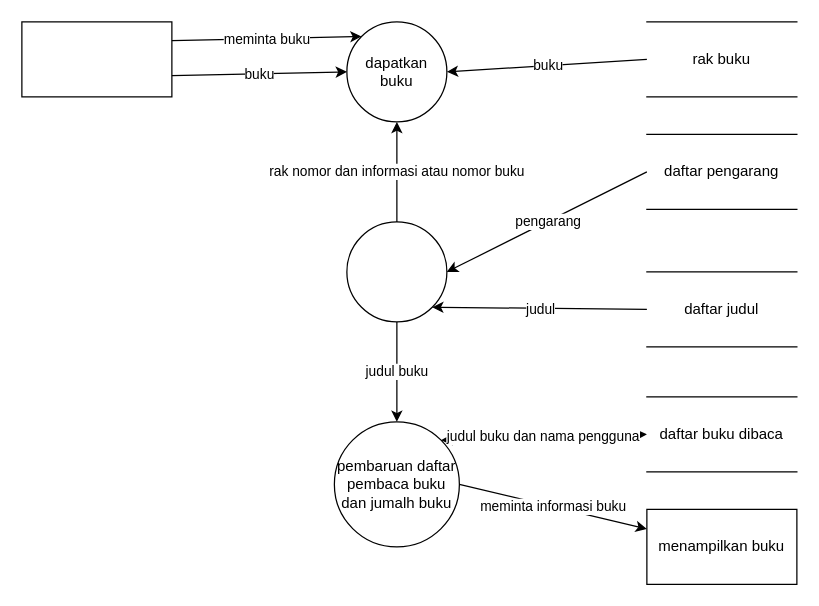
Some shapes in this 819 by 606 pixel diagram are drawn without their labels. Each missing label, with the box of its shape:
mencari letak buku: (346, 221, 447, 322)
Pengguna: (21, 21, 172, 97)
